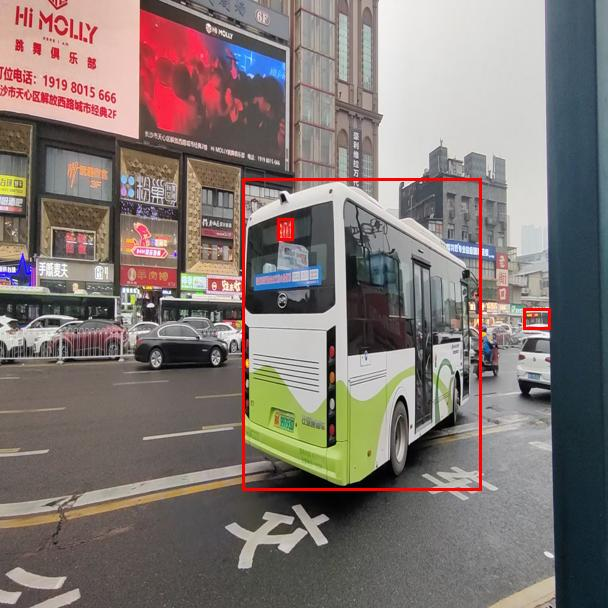bus: (242, 178, 481, 490), (523, 308, 550, 329)
screen: (277, 218, 293, 240)
